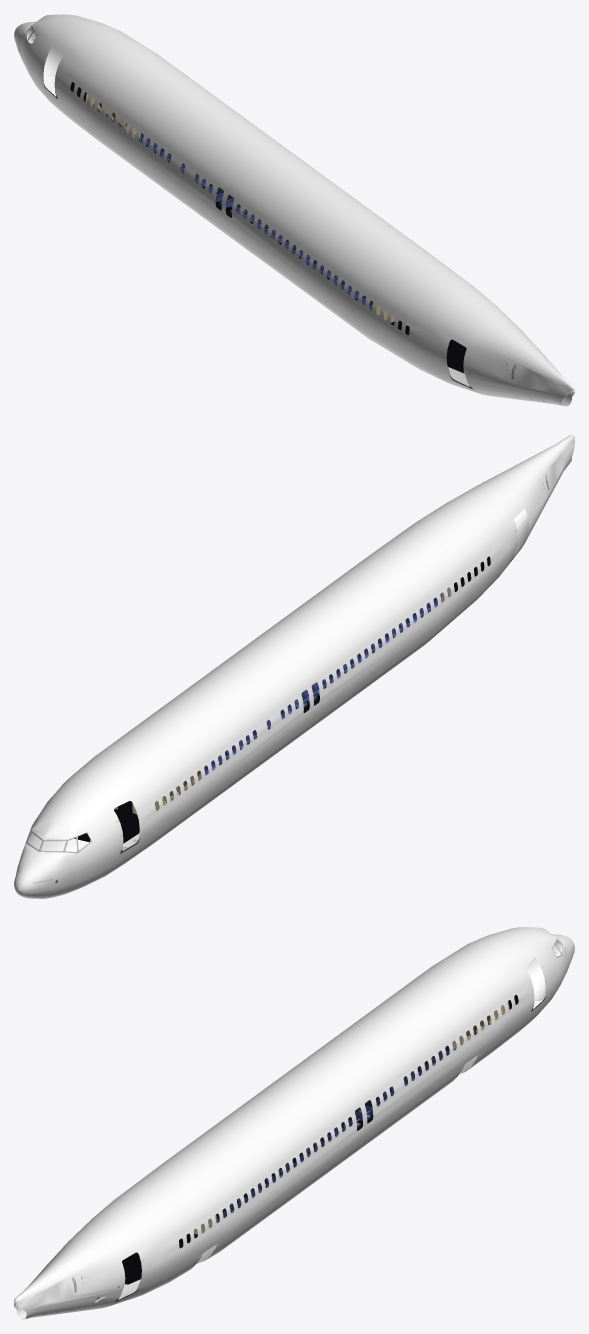
3 renders of one model, top to bottom at view 1: azimuth 30°, elevation 25°; view 2: azimuth 150°, elevation 25°; view 3: azimuth 330°, elevation 25°, orthographic.
Visible parts, largest first — view 1: static-material-0, static-material-11, static-material-4; view 2: static-material-0, static-material-11, static-material-4; view 3: static-material-0, static-material-11, static-material-4.
Part boxes in pixels (x1,y1,x2,y2): static-material-0: [14, 14, 574, 406]; static-material-11: [140, 133, 372, 310]; static-material-4: [70, 82, 466, 373]; static-material-0: [14, 435, 574, 898]; static-material-11: [204, 593, 441, 775]; static-material-4: [74, 556, 490, 843]; static-material-0: [14, 927, 574, 1319]; static-material-11: [217, 1048, 449, 1222]; static-material-4: [122, 994, 518, 1284].
Size of the model in its own units: 3.72 by 3.96 by 40.62.
14 materials, 13 textured.
